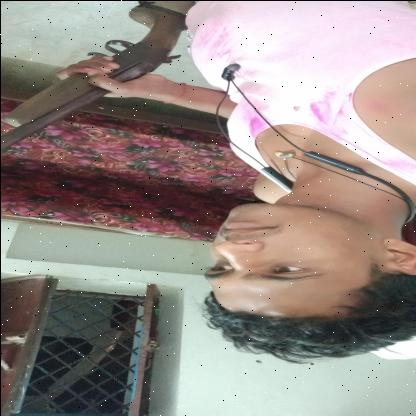rifle: (0, 0, 190, 151)
